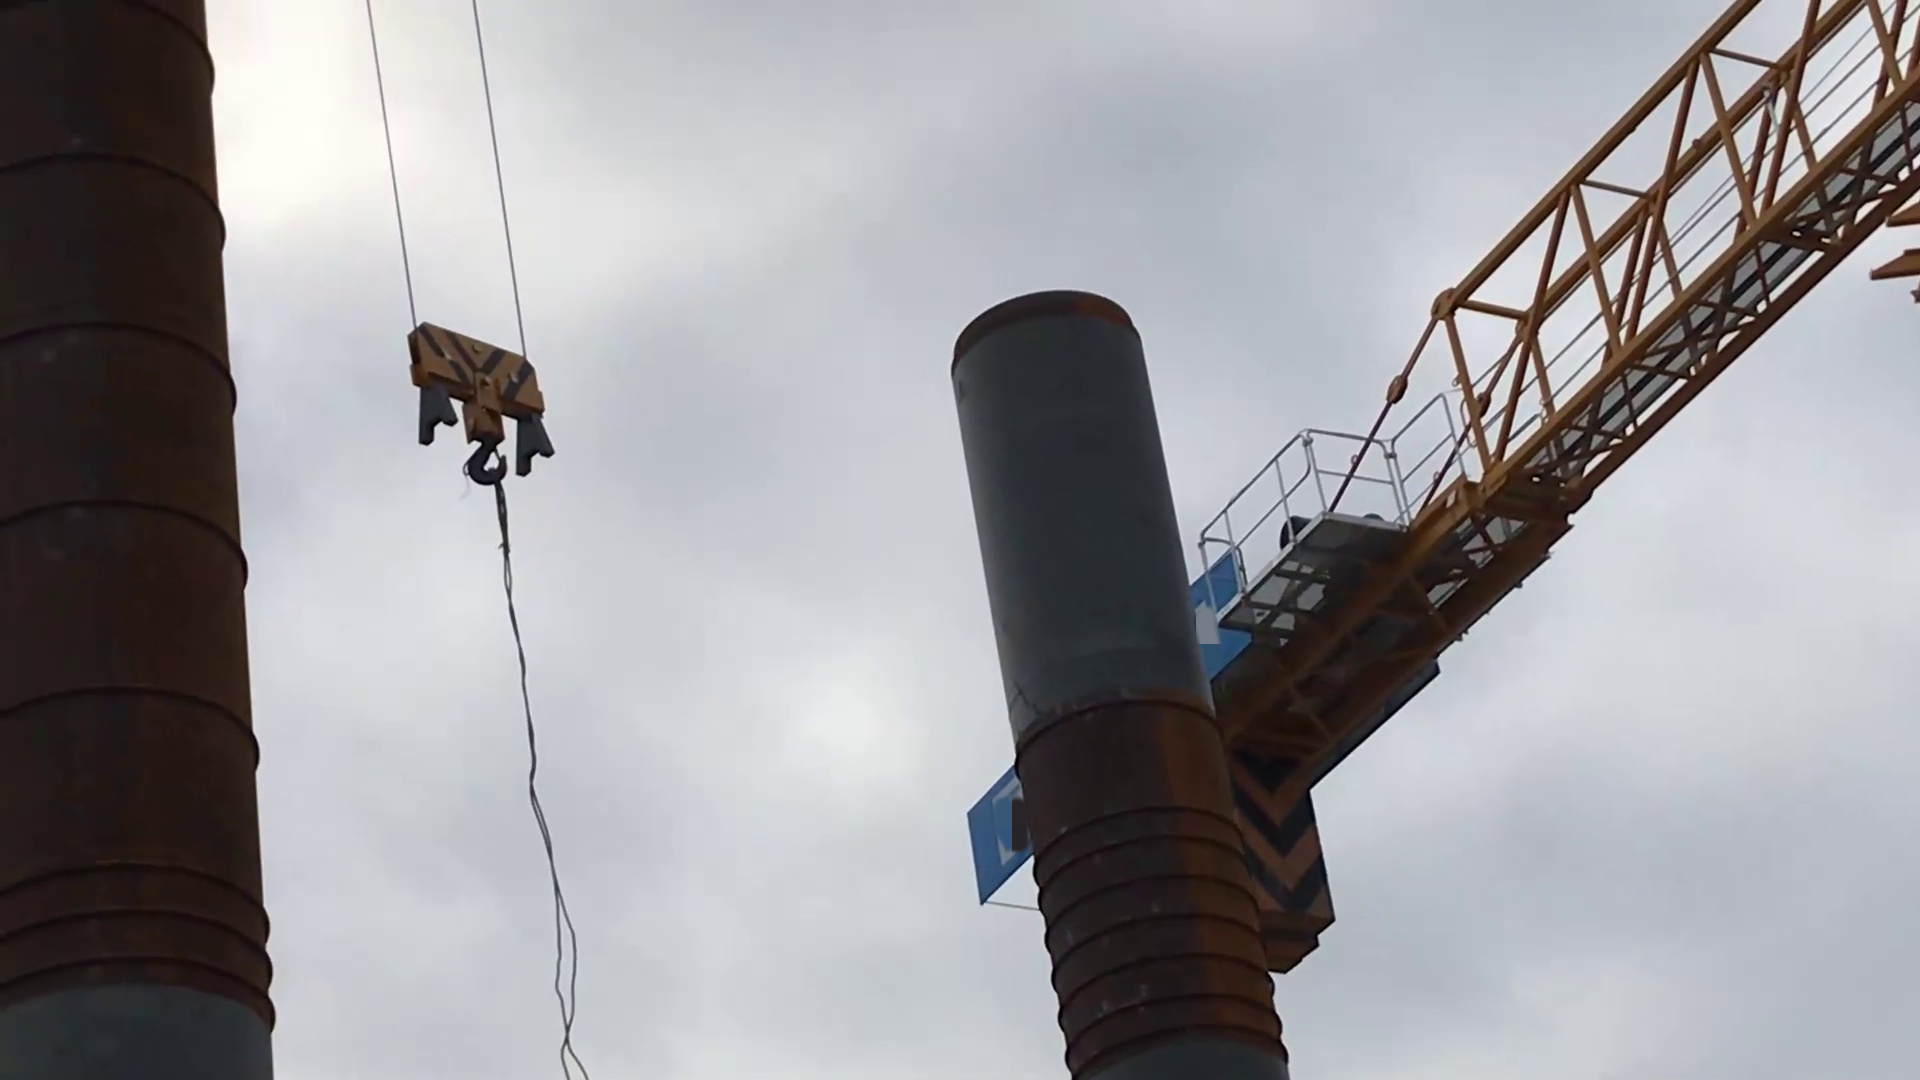hook: (404, 313, 566, 508)
